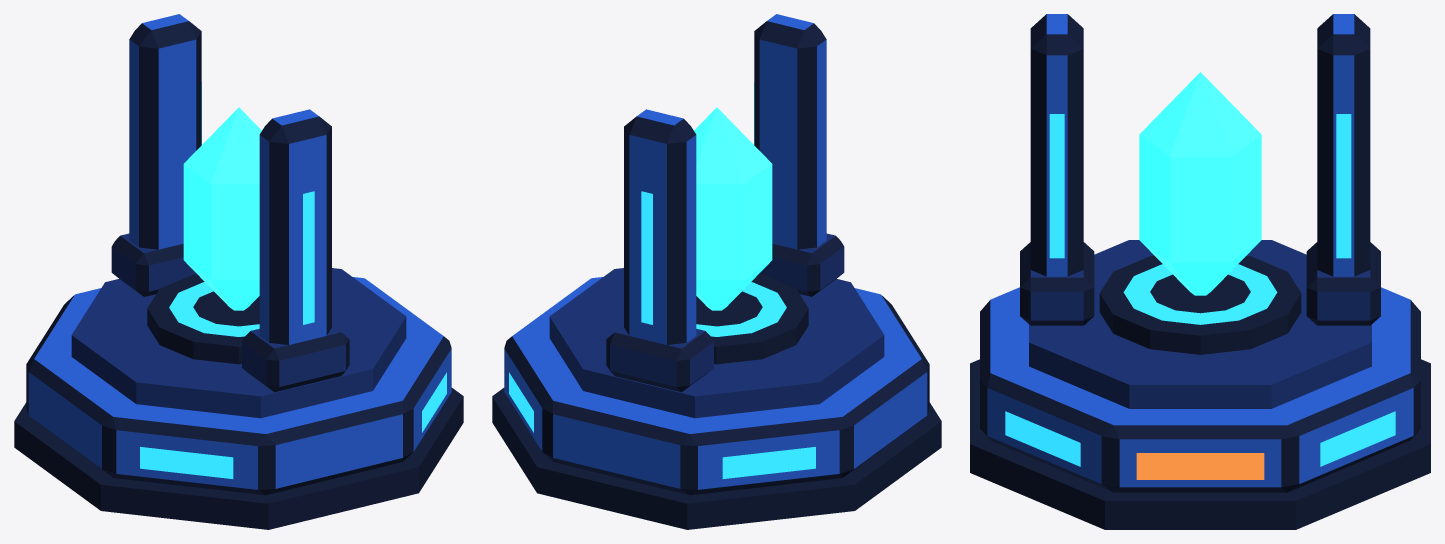
Rendered from receiver_v2_crystal.glb.
3 renders of one model, left to right at view 1: azimuth 30°, elevation 25°; view 2: azimuth 150°, elevation 25°; view 3: azimuth 270°, elevation 25°, orthographic. The views are drawn at different scales.
Parts seen in each view (by area): view 1: Receiver_Body, Receiver_Core, Receiver_Lights; view 2: Receiver_Body, Receiver_Core, Receiver_Lights; view 3: Receiver_Body, Receiver_Core, Receiver_Lights.
Part boxes in pixels (x1,y1,x2,y2): Receiver_Body: (14,14,463,529); Receiver_Core: (183,107,261,310); Receiver_Lights: (140,82,446,478); Receiver_Body: (492,14,941,529); Receiver_Core: (694,107,772,310); Receiver_Lights: (509,82,815,478); Receiver_Body: (970,14,1430,529); Receiver_Core: (1139,72,1261,295); Receiver_Lights: (1005,114,1395,479).
Size of the model in its own units: 0.8684 by 0.84 by 0.8684.
